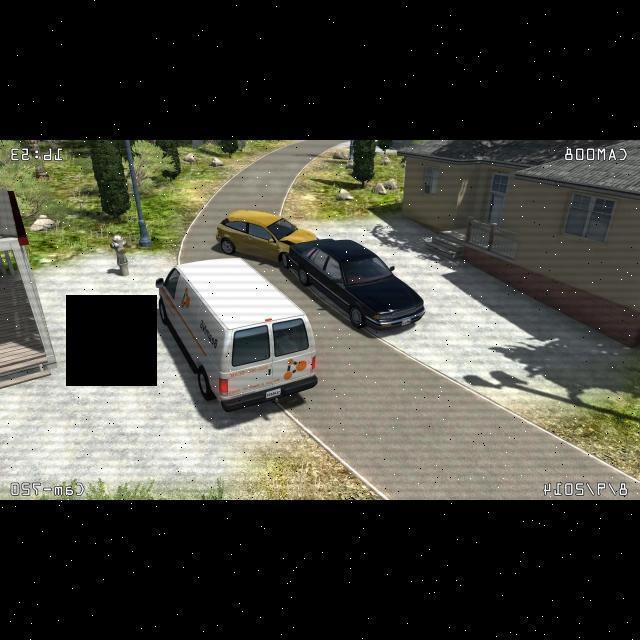accident: (215, 207, 429, 334)
